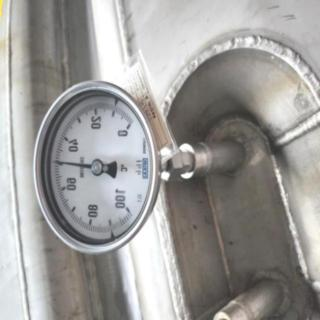gauge: (34, 79, 161, 258), (114, 192, 140, 221), (120, 113, 139, 137), (90, 159, 104, 175), (52, 158, 61, 166)
